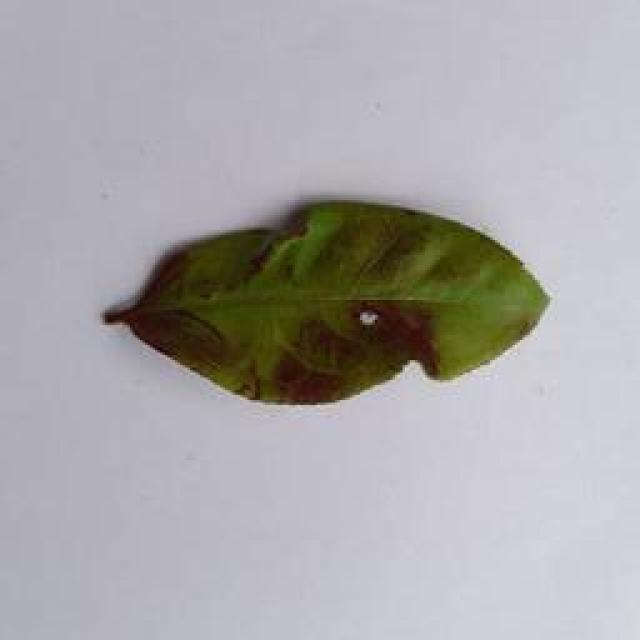Red Leaf Spot: (79, 194, 566, 418)
